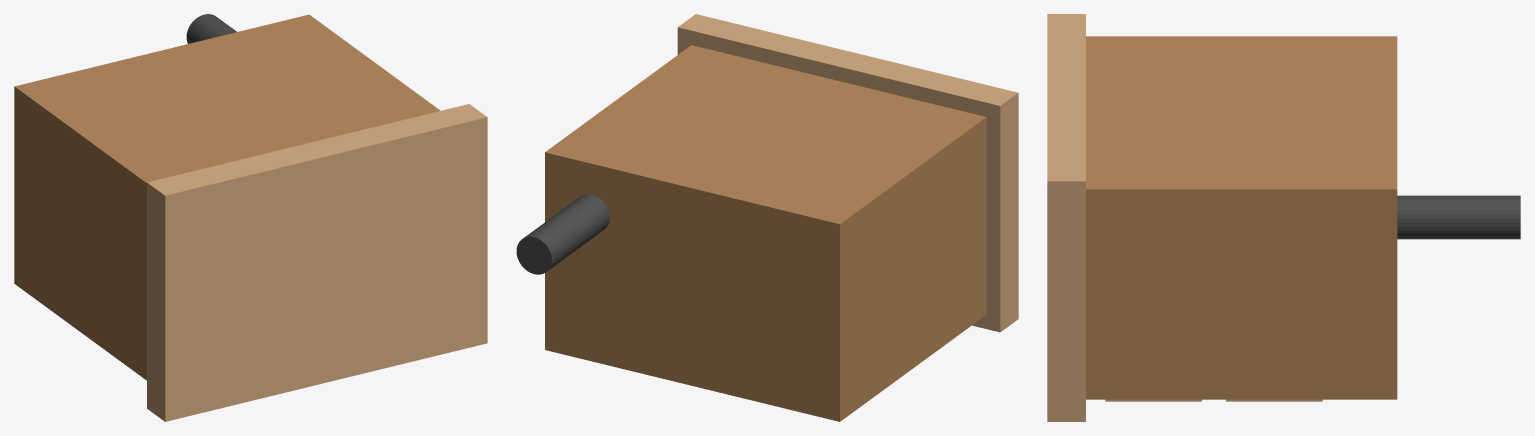
The model's file is bedside-cupboards.glb.
3 renders of one model, left to right at view 1: azimuth 30°, elevation 25°; view 2: azimuth 150°, elevation 25°; view 3: azimuth 270°, elevation 25°, orthographic. The views are drawn at different scales.
Parts seen in each view (by area): view 1: Top, Cabinet, Leg; view 2: Cabinet, Top, Leg; view 3: Cabinet, Top, Leg.
Boxes of the visible parts, bbox=[...] form: Top: bbox=[147, 104, 487, 421]; Cabinet: bbox=[14, 14, 440, 380]; Leg: bbox=[186, 14, 236, 43]; Cabinet: bbox=[545, 45, 986, 421]; Top: bbox=[677, 14, 1018, 332]; Leg: bbox=[516, 194, 609, 274]; Cabinet: bbox=[1086, 36, 1397, 399]; Top: bbox=[1047, 14, 1085, 421]; Leg: bbox=[1397, 195, 1520, 239].
Size of the model in its own units: 0.82 by 0.55 by 0.98.
